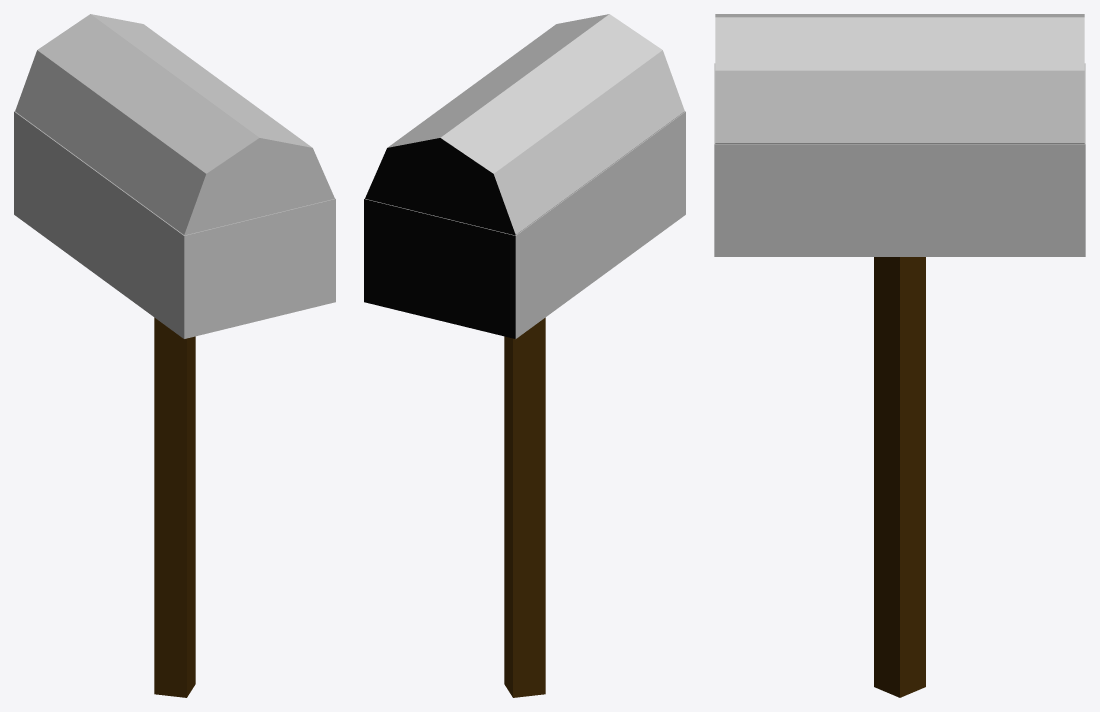
File: Mailbox.dae
3 renders of one model, left to right at view 1: azimuth 30°, elevation 25°; view 2: azimuth 150°, elevation 25°; view 3: azimuth 270°, elevation 25°, orthographic. The views are drawn at different scales.
Visible parts, largest first — view 1: Cylinder; view 2: Cylinder; view 3: Cylinder.
Boxes of the visible parts, x1,y1,x2,y2 form: Cylinder: [14, 14, 335, 697]; Cylinder: [364, 14, 685, 697]; Cylinder: [714, 14, 1085, 697].
Bounding box in the file's own units: 0.7353 × 1.43 × 2.84.
